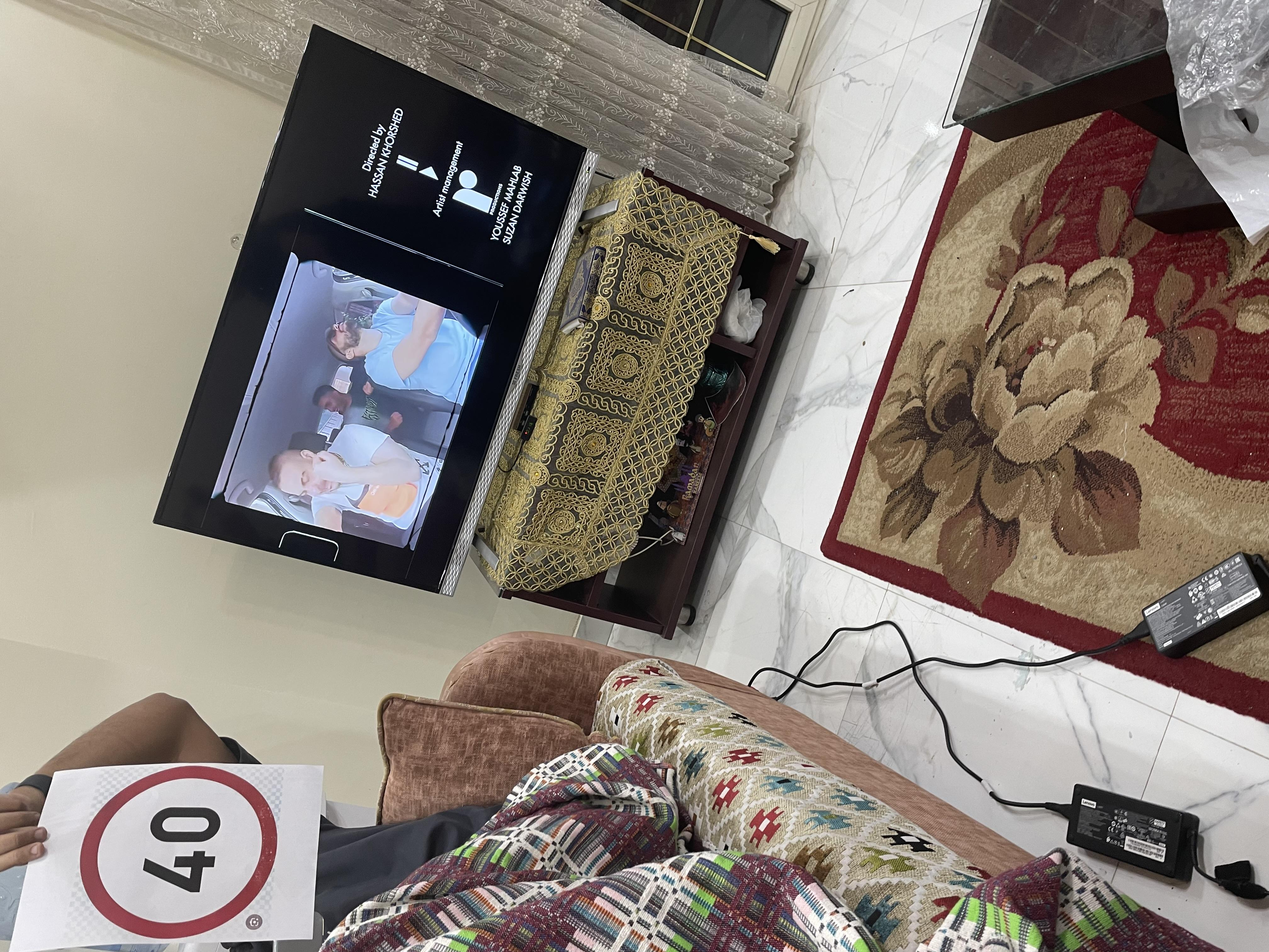40-Speed: (13, 54, 253, 209)
